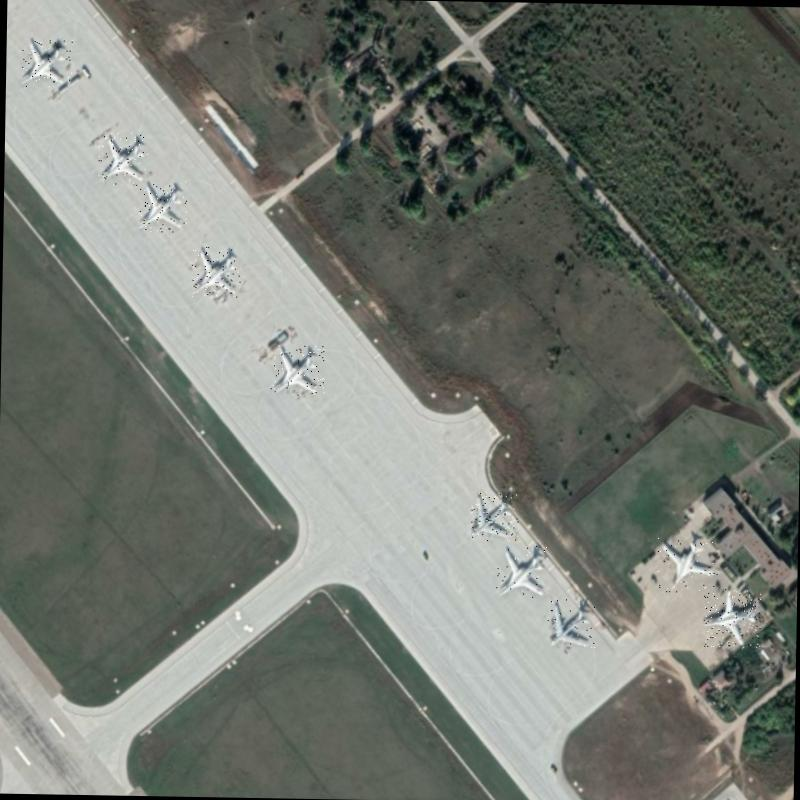A17: (546, 598, 596, 648), (470, 492, 518, 541)
A6: (703, 586, 761, 648), (656, 536, 718, 592), (496, 544, 549, 598), (270, 344, 325, 396), (98, 132, 148, 187), (138, 180, 187, 233), (190, 247, 240, 298), (21, 38, 72, 88)
